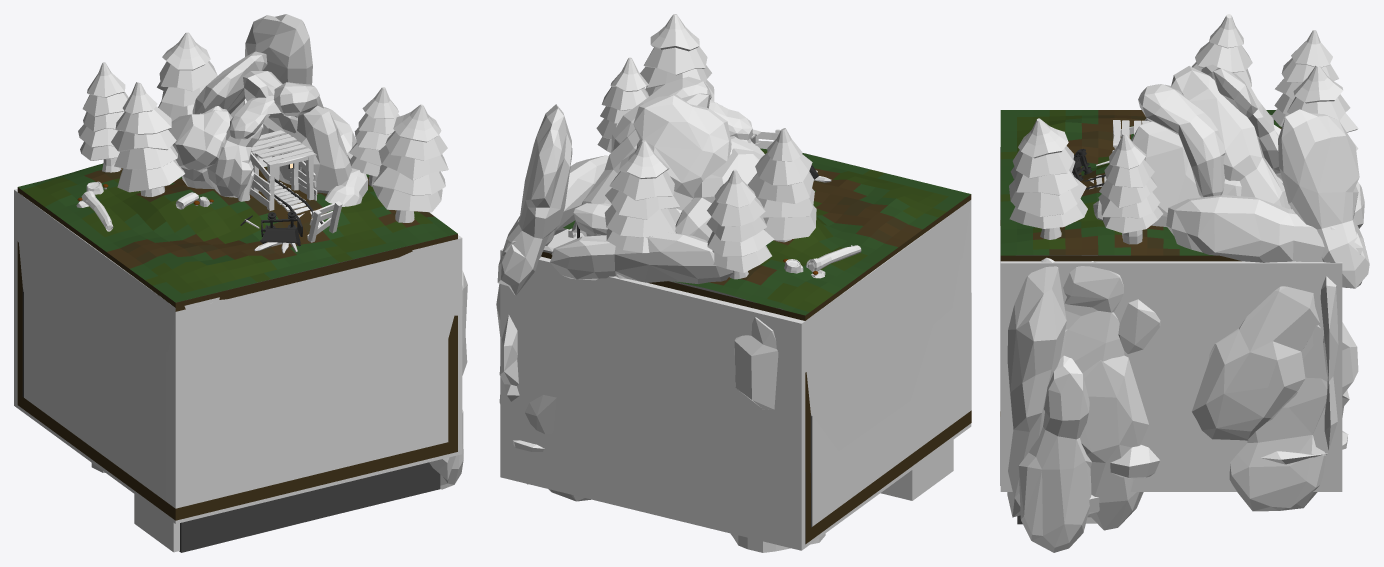
File: low-poly-crystal-mines.fbx
3 renders of one model, left to right at view 1: azimuth 30°, elevation 25°; view 2: azimuth 150°, elevation 25°; view 3: azimuth 270°, elevation 25°, orthographic. The views are drawn at different scales.
Visible parts, largest first — view 1: Plane.001, Inside, Plane, Cube.102, Cube.031, Cube.030, Cube.034, Cube.028, Cube.037, Volu.Small, Cube.029, Circle.033 (+23 smaller); view 2: Inside, Plane.001, Plane, Cube.102, Cube.101, Cube.034, Cube.021, Cube.030, Volu.Small, Cube.100, Cube.037, Circle.013 (+26 smaller); view 3: Inside, Cube.023, Plane, Cube.016, Cube.102, Cube.024, Cube.022, Cube.100, Cube.015, Cube.037, Cube.019, Cube.032 (+23 smaller).
Boxes of the visible parts, left/top/right/bottom form: Plane.001: left=17, top=179, right=457, bottom=552; Inside: left=14, top=140, right=462, bottom=523; Plane: left=18, top=163, right=457, bottom=302; Cube.102: left=245, top=14, right=312, bottom=84; Cube.031: left=268, top=105, right=352, bottom=193; Cube.030: left=168, top=109, right=232, bottom=170; Cube.034: left=192, top=51, right=267, bottom=117; Cube.028: left=207, top=123, right=263, bottom=197; Cube.037: left=243, top=71, right=297, bottom=148; Volu.Small: left=134, top=494, right=179, bottom=552; Cube.029: left=229, top=95, right=298, bottom=139; Circle.033: left=373, top=165, right=445, bottom=195; Inside: left=500, top=200, right=971, bottom=550; Plane.001: left=541, top=153, right=971, bottom=544; Plane: left=563, top=148, right=970, bottom=315; Cube.102: left=497, top=104, right=572, bottom=295; Cube.101: left=550, top=232, right=733, bottom=283; Cube.034: left=633, top=95, right=731, bottom=210; Cube.021: left=734, top=317, right=778, bottom=409; Cube.030: left=675, top=137, right=764, bottom=241; Volu.Small: left=880, top=440, right=953, bottom=500; Cube.100: left=503, top=155, right=608, bottom=255; Cube.037: left=571, top=93, right=710, bottom=236; Circle.013: left=604, top=205, right=680, bottom=237; Inside: left=1000, top=261, right=1342, bottom=491; Cube.023: left=1192, top=286, right=1319, bottom=440; Plane: left=1000, top=110, right=1281, bottom=255; Cube.016: left=1018, top=355, right=1091, bottom=552; Cube.102: left=1278, top=109, right=1369, bottom=288; Cube.024: left=1229, top=322, right=1358, bottom=511; Cube.022: left=1007, top=257, right=1066, bottom=517; Cube.100: left=1166, top=195, right=1362, bottom=262; Cube.015: left=1080, top=355, right=1148, bottom=530; Cube.037: left=1171, top=66, right=1290, bottom=209; Cube.019: left=1060, top=261, right=1124, bottom=372; Cube.032: left=1138, top=84, right=1225, bottom=197.
Size of the model in its own units: 679 by 840 by 660.
